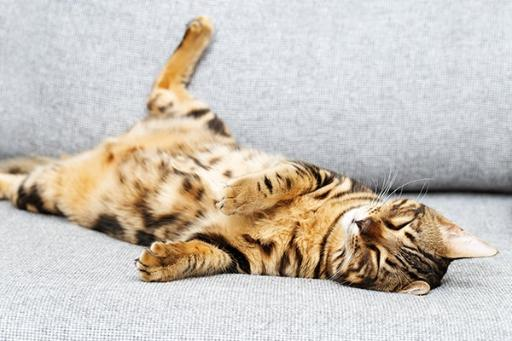cat_sleeping: (1, 16, 496, 294)
